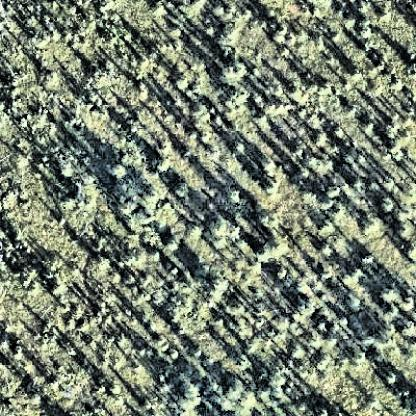tree-top: (223, 86, 250, 120), (175, 380, 203, 411), (192, 96, 220, 126), (256, 238, 284, 265), (221, 378, 248, 406), (222, 60, 248, 87), (291, 295, 317, 320), (359, 215, 383, 240), (381, 132, 408, 154), (207, 217, 230, 242), (90, 254, 112, 278), (343, 265, 365, 288), (258, 176, 280, 198), (381, 284, 402, 307), (42, 70, 65, 91), (154, 154, 175, 176), (209, 282, 232, 302), (345, 293, 365, 315), (188, 222, 208, 243), (163, 234, 183, 254), (398, 221, 416, 243), (109, 161, 129, 180), (323, 182, 342, 202), (173, 71, 192, 91), (378, 195, 397, 215), (227, 187, 246, 206), (61, 192, 80, 210), (142, 209, 160, 228), (1, 334, 15, 357), (147, 1, 165, 17), (314, 132, 330, 150), (263, 158, 278, 176), (403, 319, 416, 338), (386, 371, 399, 385)
